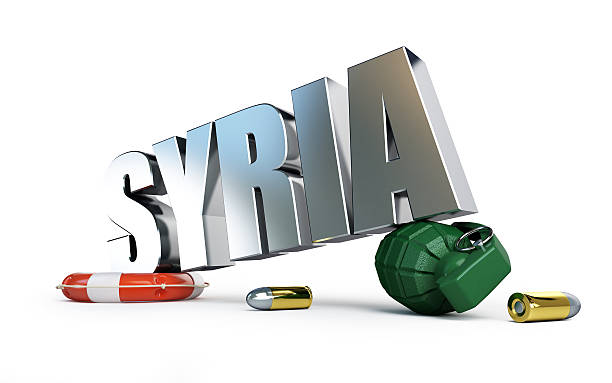e1: (379, 219, 511, 315)
